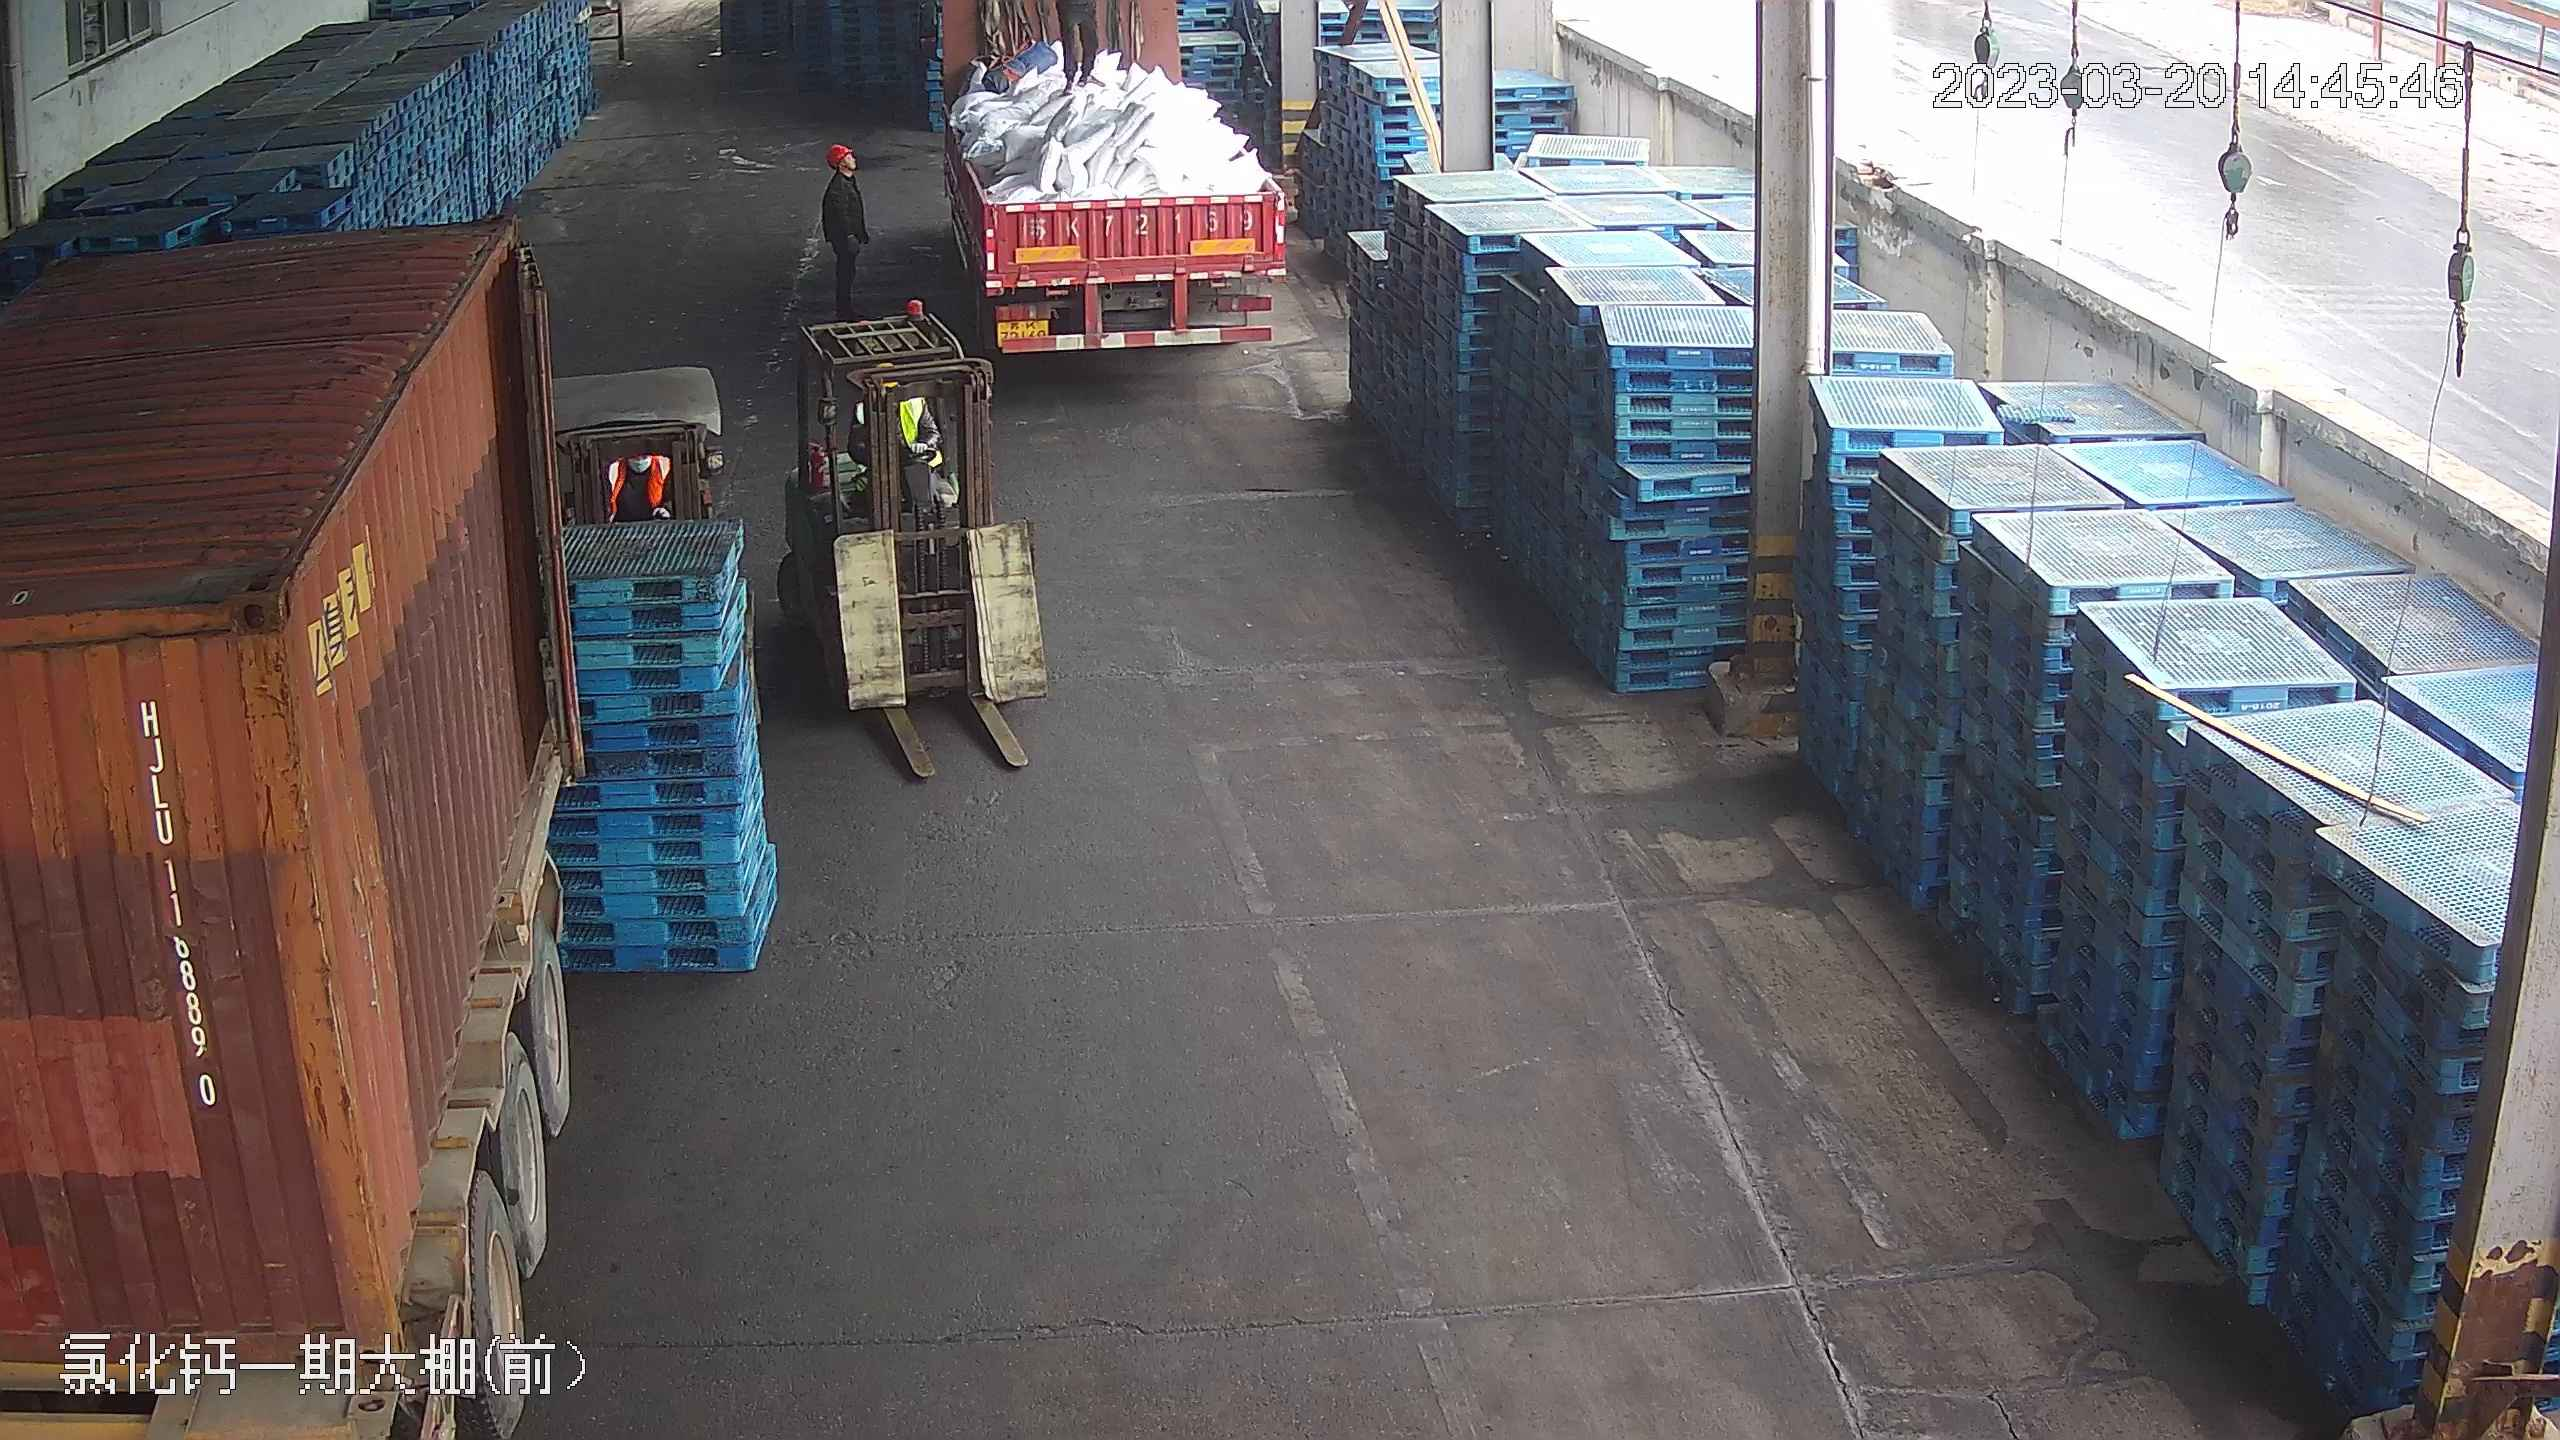head: (817, 142, 865, 201)
helmet: (825, 141, 853, 166)
people: (813, 138, 872, 316)
truck: (1, 185, 666, 1430), (937, 1, 1298, 355)
